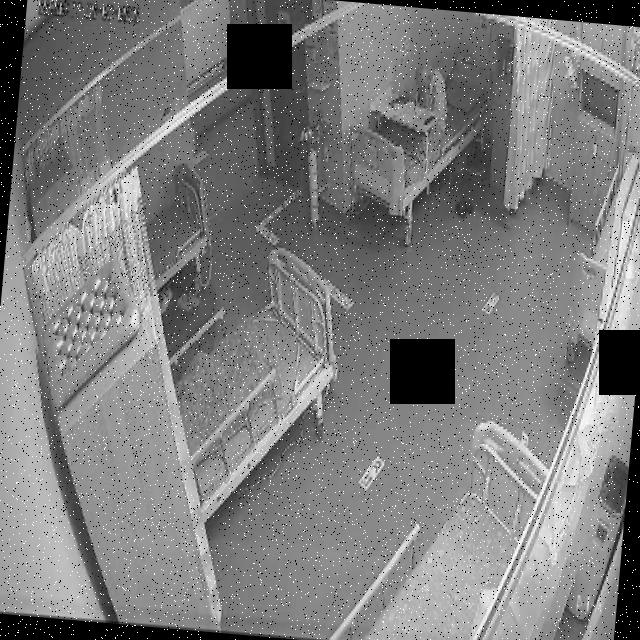bed: (329, 406, 553, 640), (165, 242, 342, 526), (343, 48, 494, 222), (140, 162, 217, 296)
patient: (409, 60, 452, 137)
sit: (408, 59, 452, 138)
